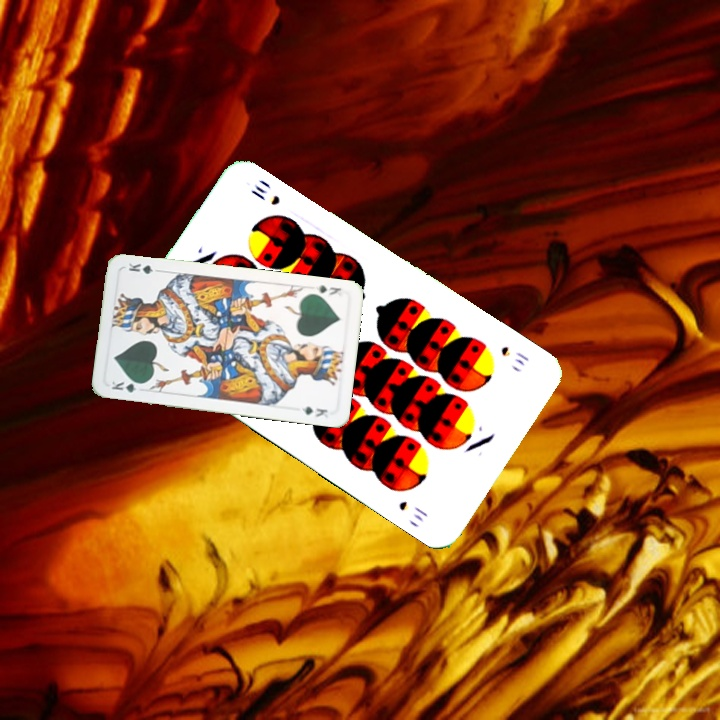GK: (108, 377, 147, 395), (311, 281, 343, 299)
S10: (496, 342, 532, 369)
